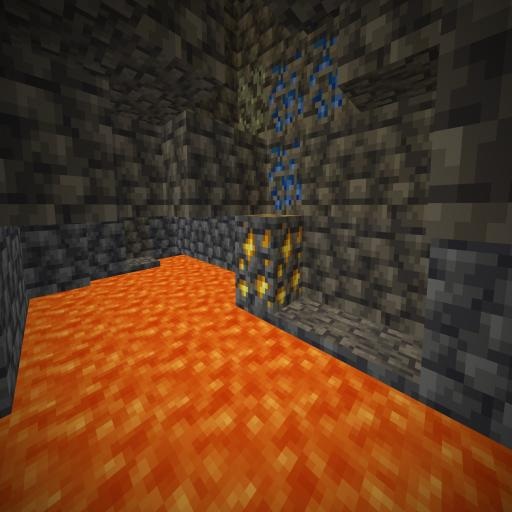gold ore: (232, 209, 306, 316)
lapis ore: (264, 23, 348, 212)
